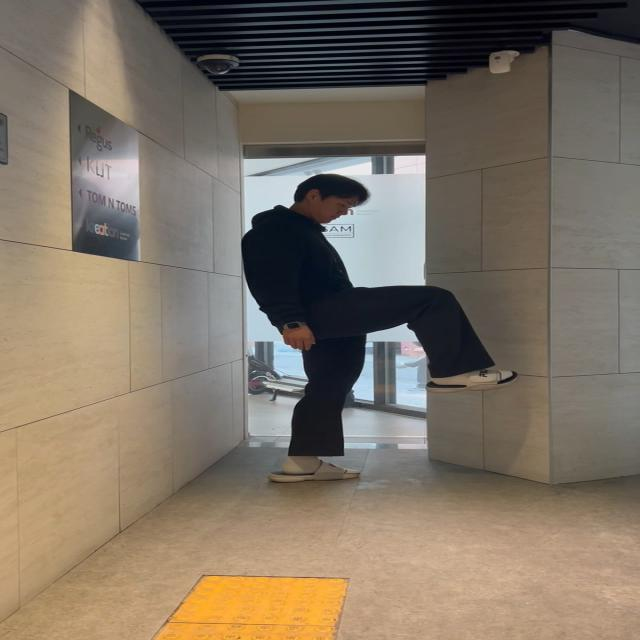knee: (337, 283, 500, 392)
